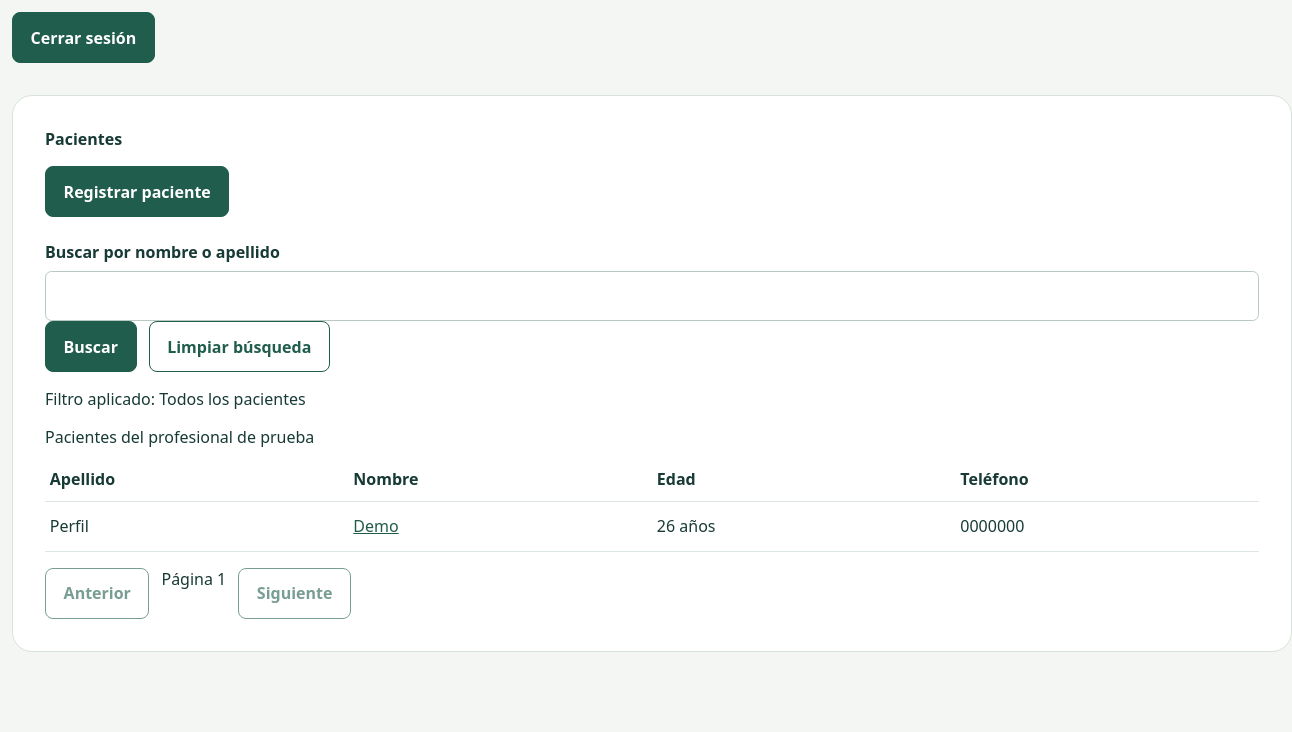
Test case: cambio de acceso descarta guardado pendiente: logout
Click the button with aria-label "Ver perfil de Demo Perfil": x=376, y=526 left=353, top=512, right=399, bottom=540
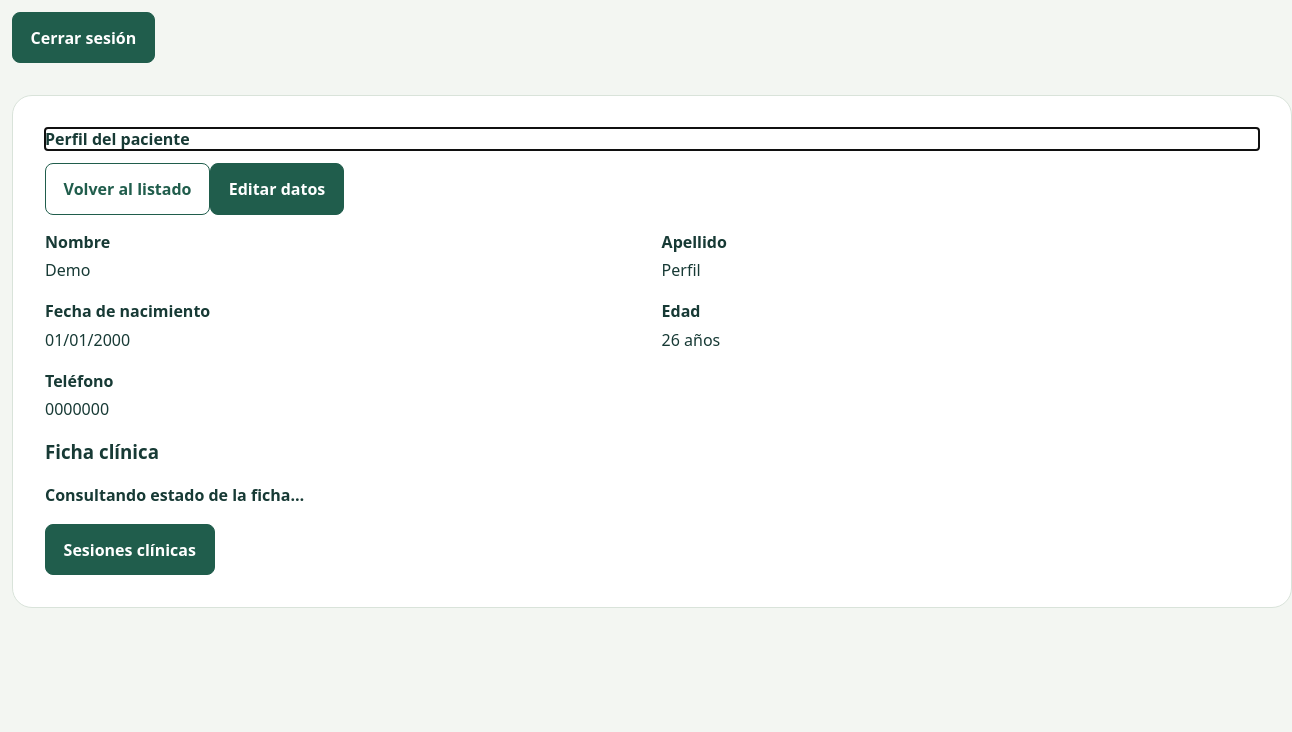
Click the button "Editar datos": x=277, y=189 left=210, top=164, right=344, bottom=215
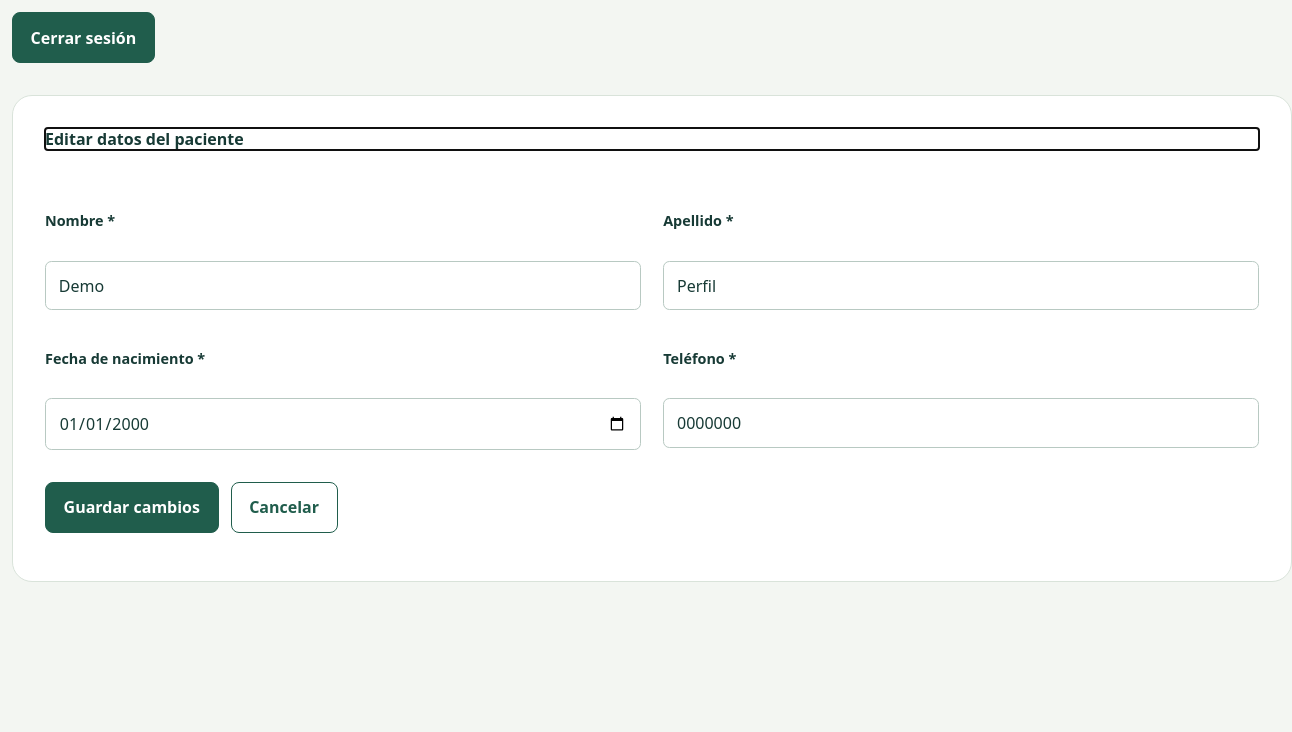
Now the field showing "Demo" is shown, box left=45, top=261, right=641, bottom=310
Click the button "Guardar cambios": x=132, y=507 left=45, top=482, right=219, bottom=533
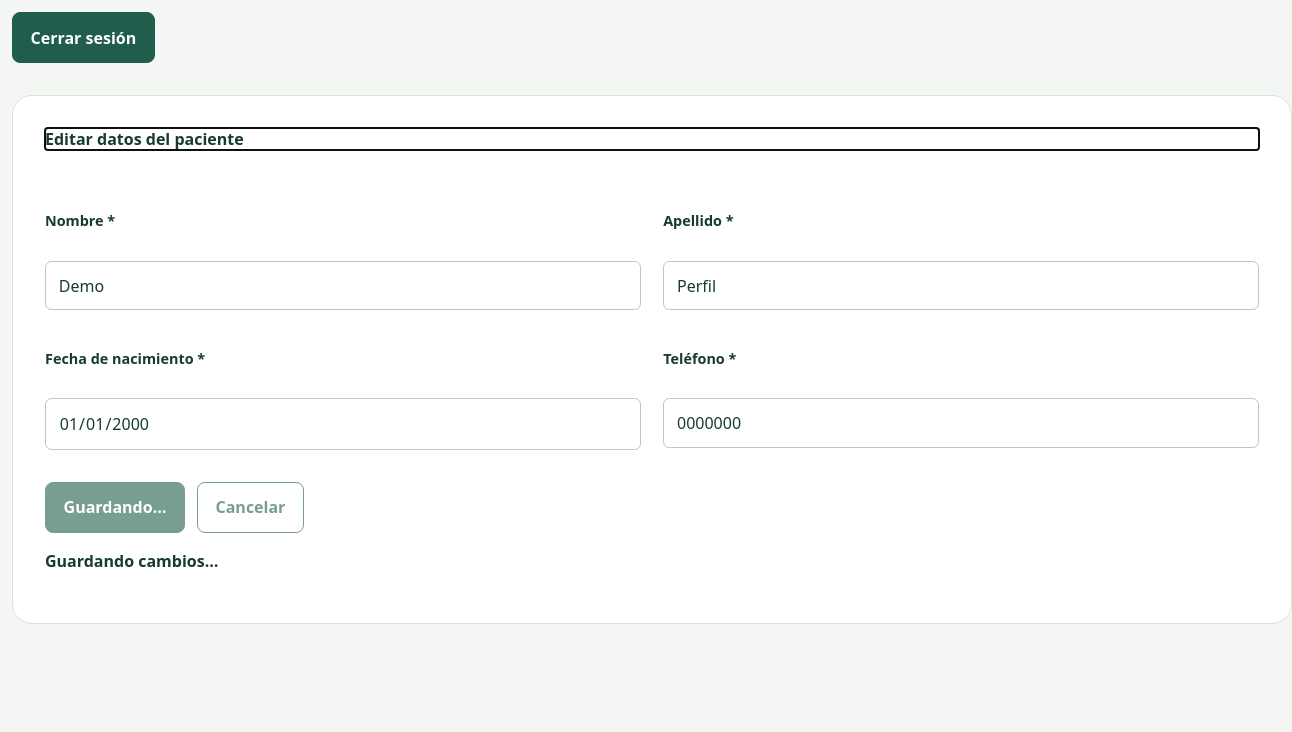
Click the button "Cerrar sesión": x=83, y=38 left=12, top=12, right=155, bottom=63
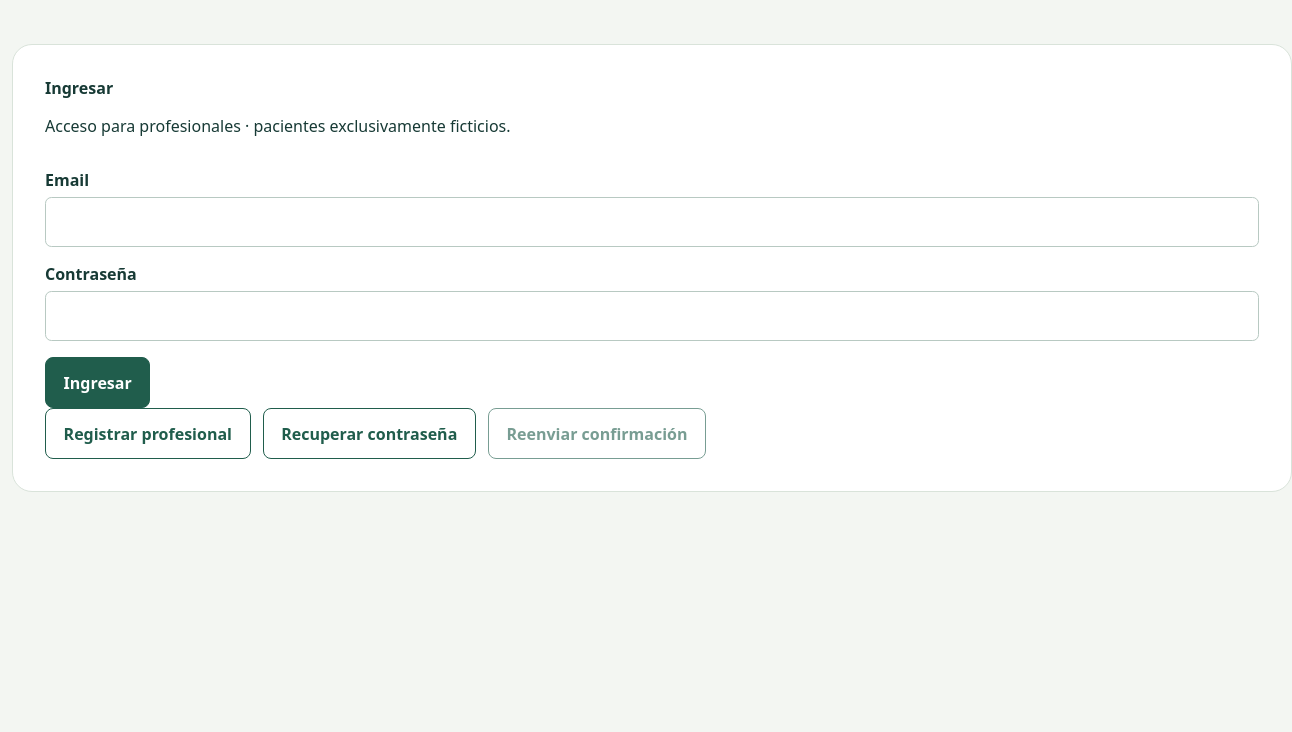
Now the heading "Editar datos del paciente" is gone
